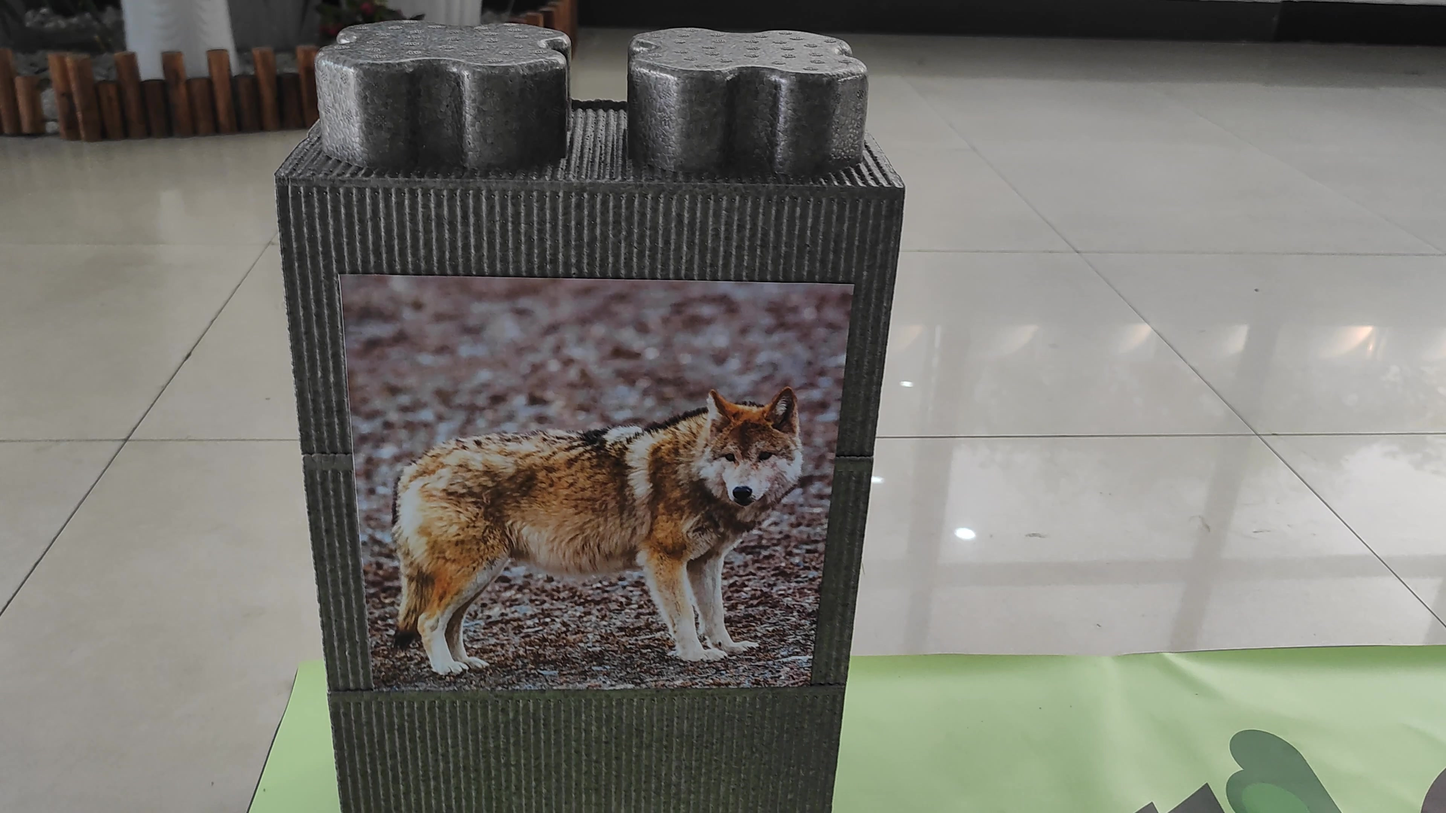wolf: (369, 268, 805, 682)
